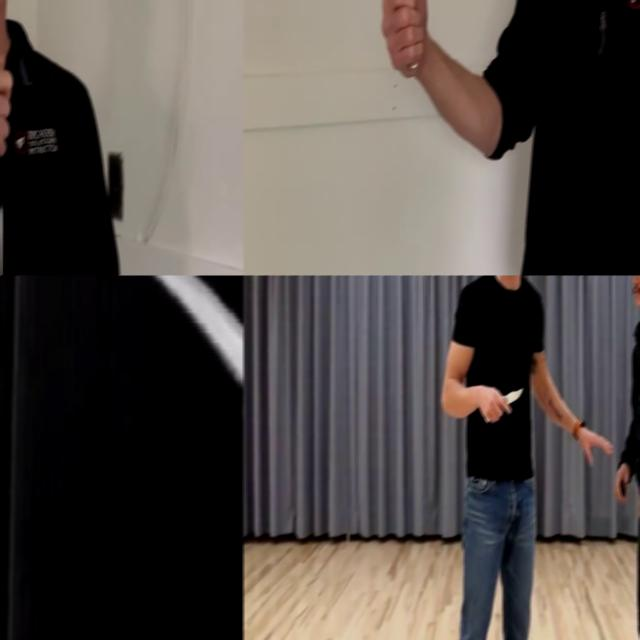Knife_Handle: (141, 275, 244, 486), (369, 0, 428, 78), (476, 384, 523, 422)
